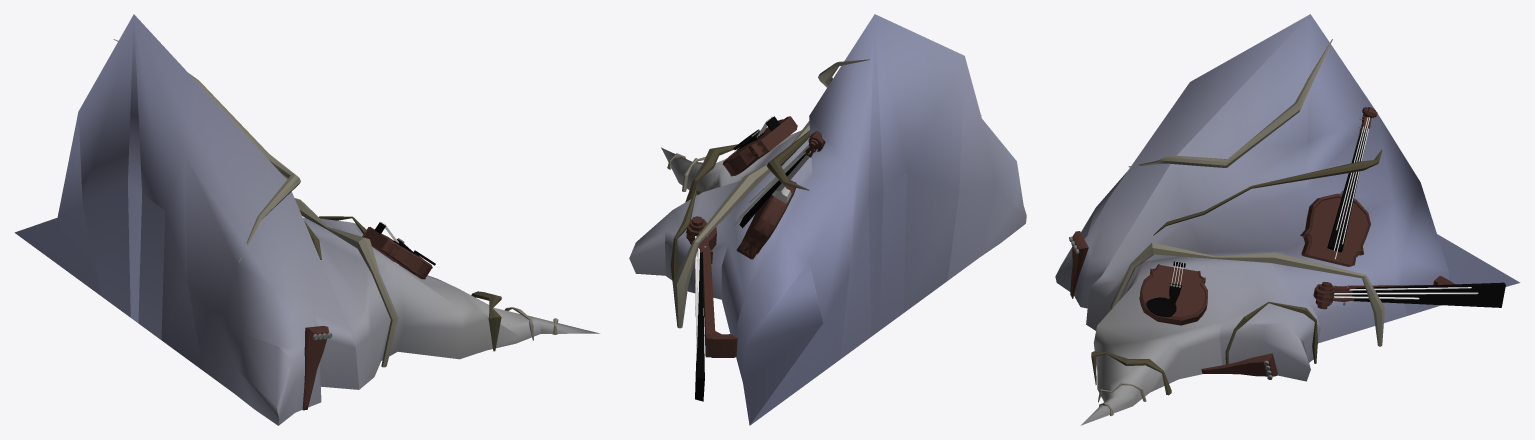
Rendered from 11_debris_a.fbx.
The picture shows the model from 3 angles, left to right: view 1: azimuth 30°, elevation 25°; view 2: azimuth 150°, elevation 25°; view 3: azimuth 270°, elevation 25°; orthographic projection. The views are drawn at different scales.
Parts seen in each view (by area): view 1: debris_a; view 2: debris_a; view 3: debris_a.
Part boxes in pixels (bbox=[...]): debris_a: bbox=[14, 14, 599, 425]; debris_a: bbox=[629, 14, 1026, 425]; debris_a: bbox=[1055, 14, 1520, 425].
Bounding box in the file's own units: 970 × 807 × 1261.
